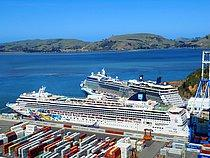Ship: (3, 85, 191, 135), (78, 66, 189, 110)
